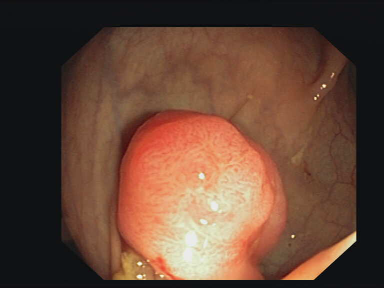polyp: (100, 88, 307, 274)
